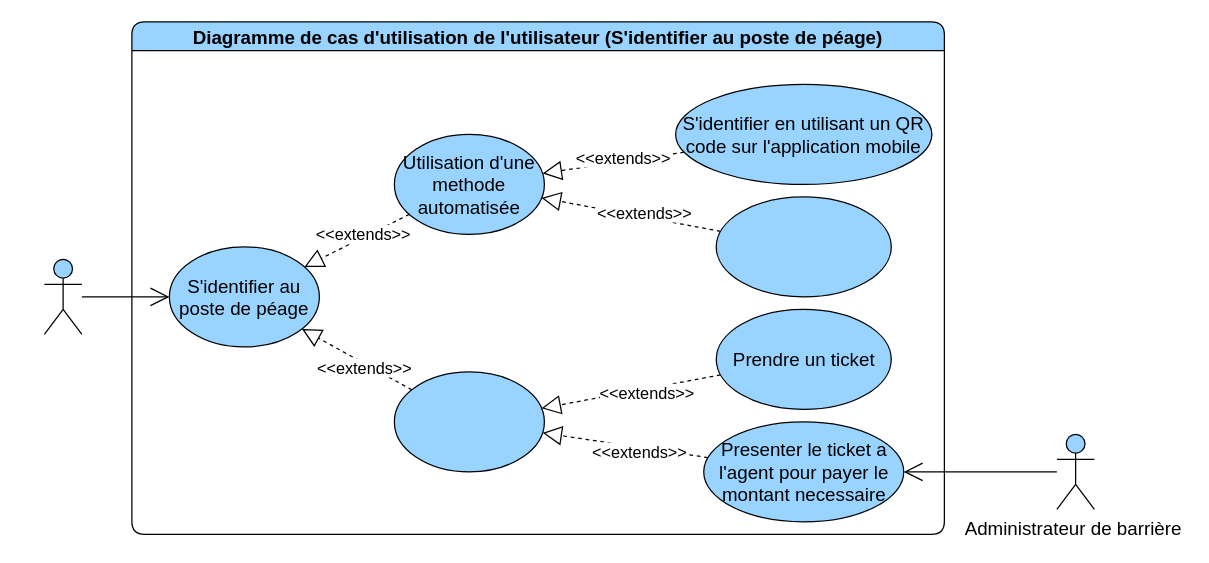
Image size: 1209x563. Some labels were removed from this diagram. The shapes that lost their labels are listed below. From the top down, each one's centre as x and y in pixels, then its label:
[803,246]: S'identifier en utilisant un badge de télépéage
[62,296]: Utilisateur
[468,421]: Utilisation des tickets
